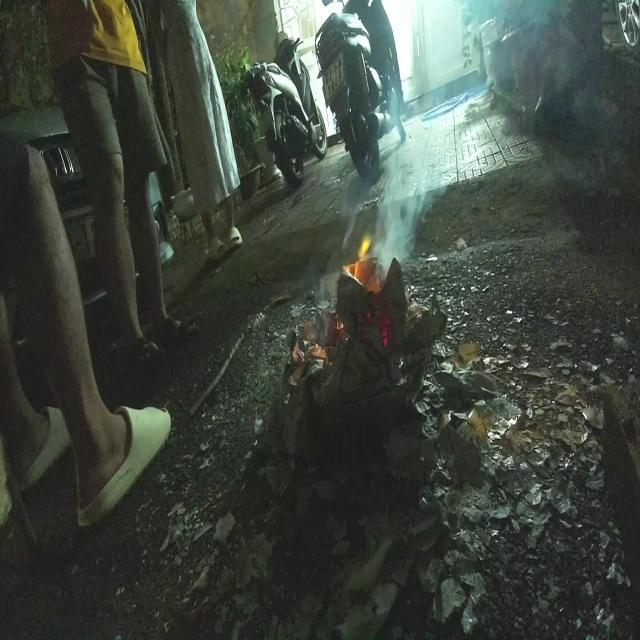Fire: (358, 237, 370, 264)
Smoke: (374, 46, 451, 282), (310, 174, 362, 324)
